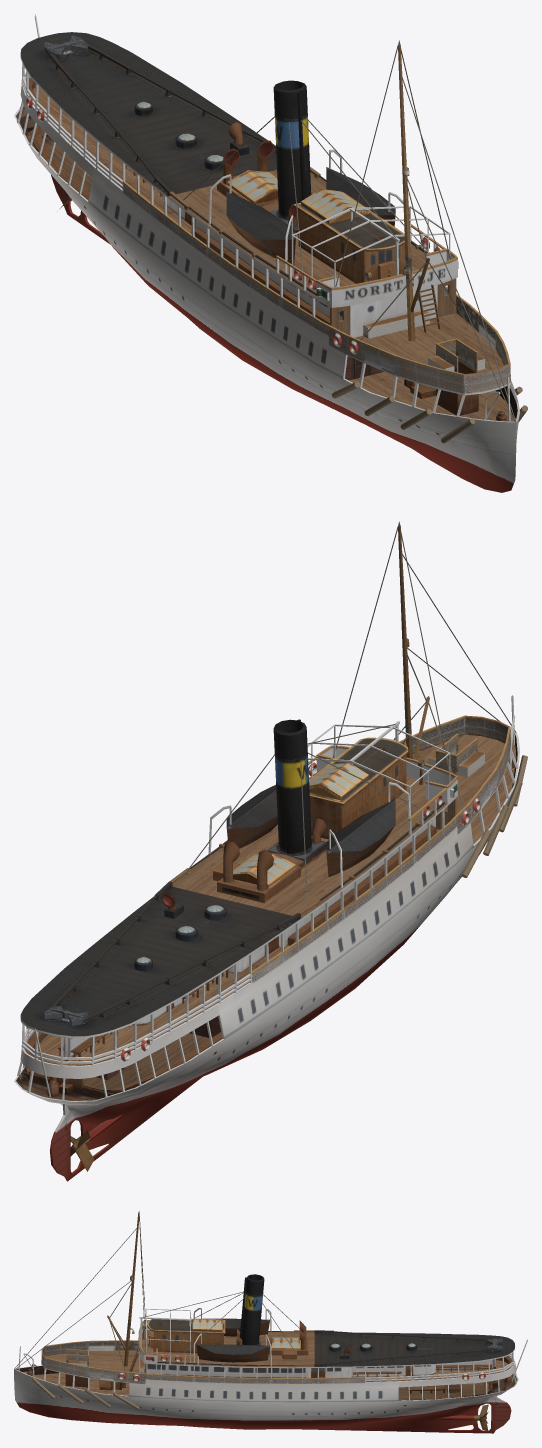
The model's file is cargo.glb.
3 renders of one model, top to bottom at view 1: azimuth 30°, elevation 25°; view 2: azimuth 150°, elevation 25°; view 3: azimuth 270°, elevation 25°, orthographic. The views are drawn at different scales.
Parts seen in each view (by area): view 1: mn-norrtelje; view 2: mn-norrtelje; view 3: mn-norrtelje.
Part boxes in pixels (box(x1,y1,x2,y2)): mn-norrtelje: box(14, 14, 527, 492); mn-norrtelje: box(14, 521, 527, 1181); mn-norrtelje: box(14, 1211, 527, 1433).
Size of the model in its own units: 7.72 by 21.25 by 44.38.
1 material, 1 textured.
